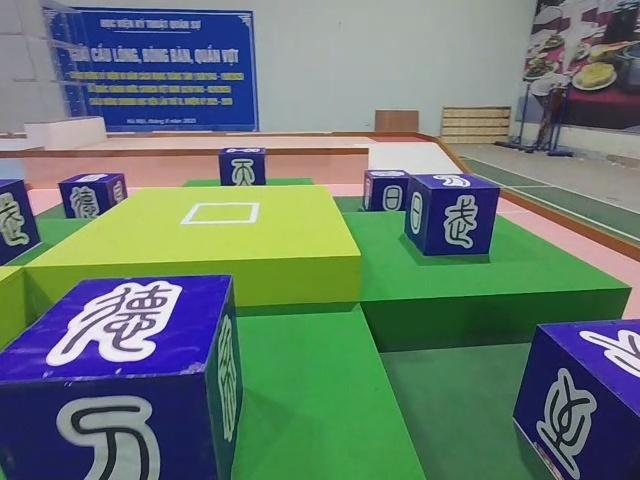R2 Fake Blue: (0, 273, 242, 477), (512, 318, 639, 480), (401, 174, 499, 258), (0, 179, 40, 271), (58, 174, 127, 221), (360, 168, 411, 212), (216, 146, 266, 187)
